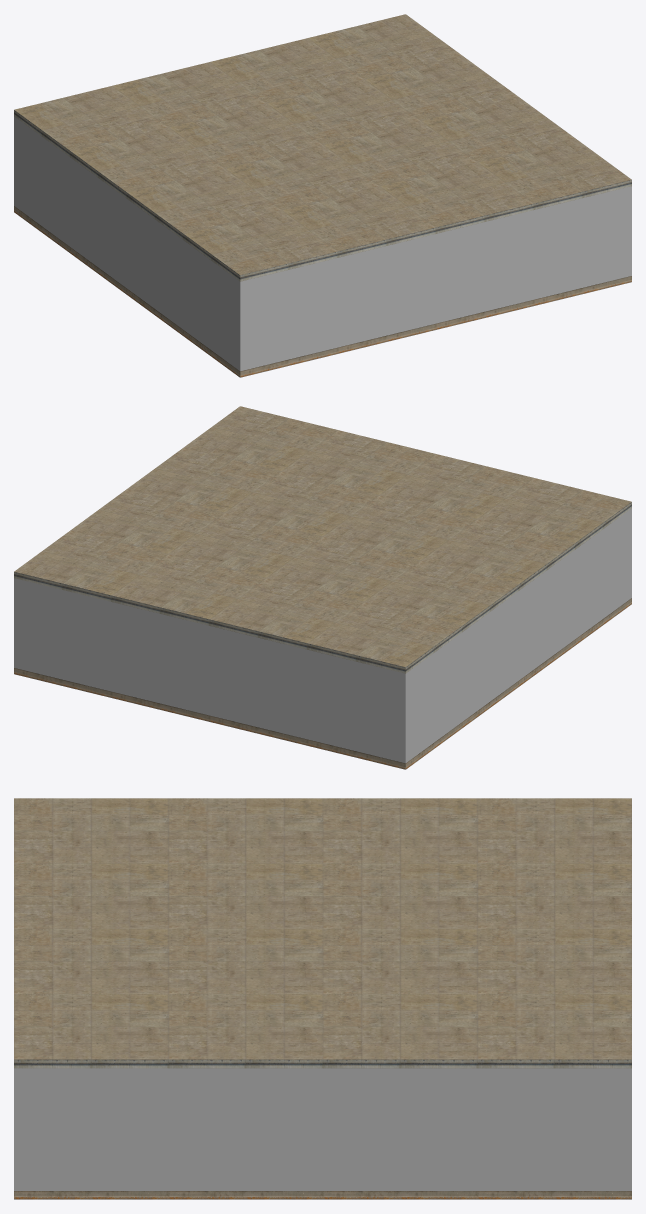
File: ArenaUnitHor.fbx
3 views of the same model, one above another, from view 1: azimuth 30°, elevation 25°; view 2: azimuth 150°, elevation 25°; view 3: azimuth 270°, elevation 25° (orthographic). The views are drawn at different scales.
Parts seen in each view (by area): view 1: ArenaUnitHor_Lod0; view 2: ArenaUnitHor_Lod0; view 3: ArenaUnitHor_Lod0.
Boxes of the visible parts, x1,y1,x2,y2 form: ArenaUnitHor_Lod0: [14, 14, 631, 377]; ArenaUnitHor_Lod0: [14, 406, 631, 769]; ArenaUnitHor_Lod0: [14, 798, 631, 1199].
Size of the model in its own units: 64 by 16 by 64.
